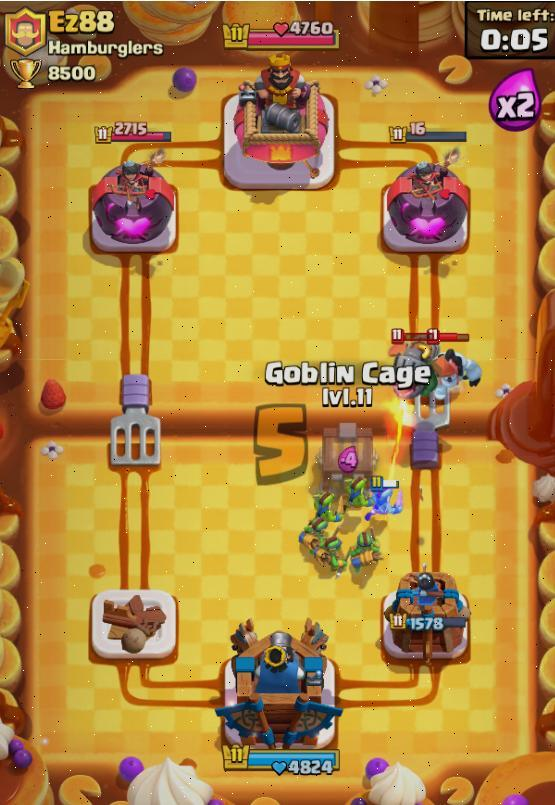EIceGolem: (432, 353, 478, 397)
EInfernoDrag: (390, 336, 433, 398)
EKingTower: (228, 54, 337, 196)
EnemyPrincessTower: (84, 147, 184, 251), (378, 146, 478, 249)
OGoblin: (367, 482, 400, 518), (345, 476, 366, 512), (318, 490, 339, 526)
OSpearGoblin: (350, 529, 384, 575), (316, 534, 348, 576), (297, 515, 325, 556)
OwnKingTower: (225, 617, 336, 750)
OwnPrincessTower: (382, 568, 477, 657)
TowerDown: (92, 591, 175, 660)
